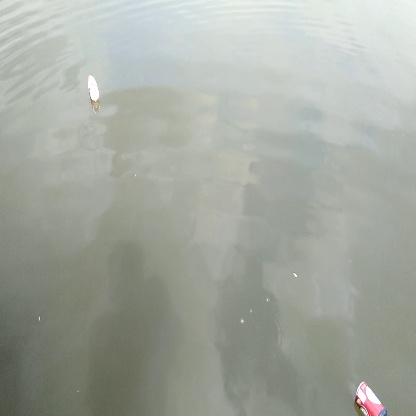bottle: (349, 377, 393, 416), (82, 70, 106, 109)
